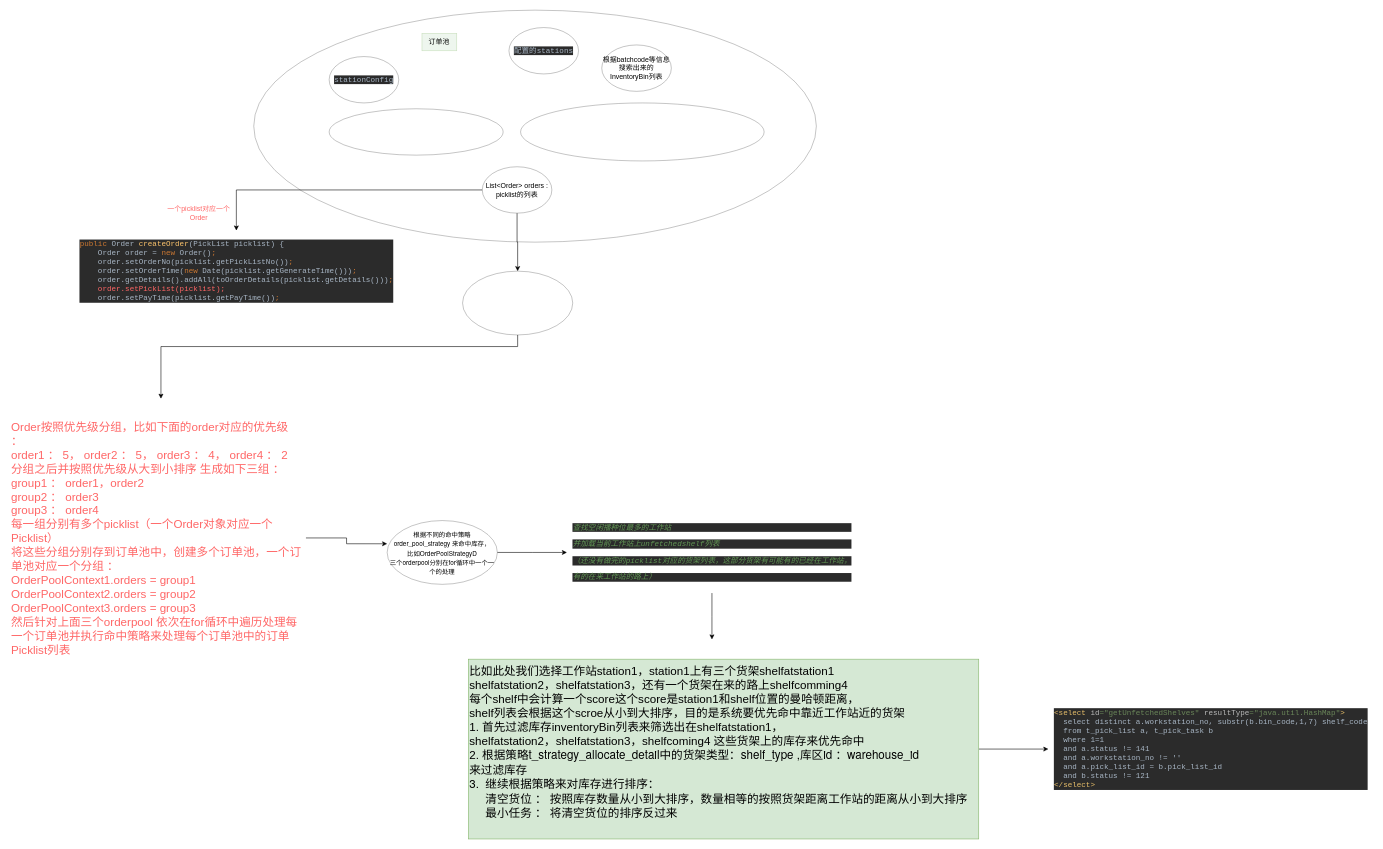
The diagram is 1383 pixels wide and 849 high, and some of its shapes have lost their labels. The centre of each missing label's shape, as x and y in pixels:
"key ：shelf， value ： 被库存占用的bin数量 Map<String , Integer> shelfSidesNum" belongs at pixel 642 131.
"所有的货架（包含locationX，locationY） Map<String , Shelf> shelves" belongs at pixel 416 131.
"根据picklist 的优先级分组并按照priority从大到小排序，先优先处理优先级高的订单来首先命中库存" belongs at pixel 517 303.
